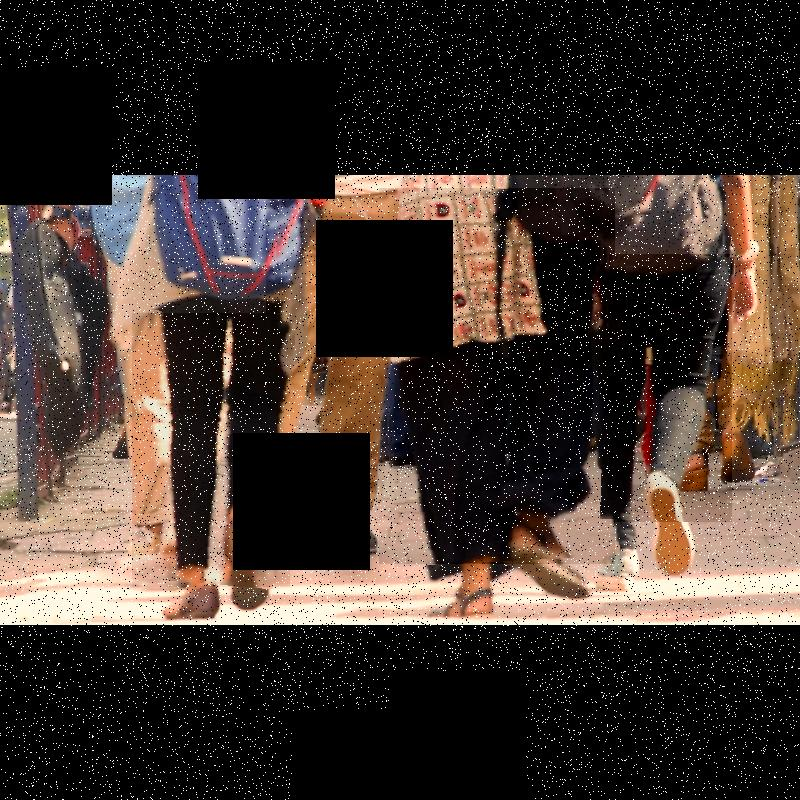Churidaar: (379, 188, 615, 564)
Jeans: (602, 254, 732, 522)
Pant: (132, 313, 290, 587), (266, 194, 394, 530)
